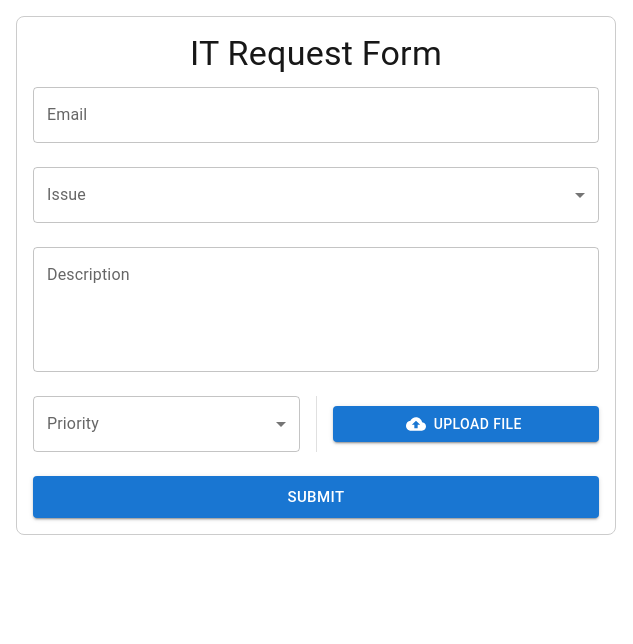
Test: RequestForm › it does not submit the form when the email is invalid
This screenshot has width=633, height=644.
Type "2222@test." into the field labelled "Email" at (316, 115), box [33,87,599,143]
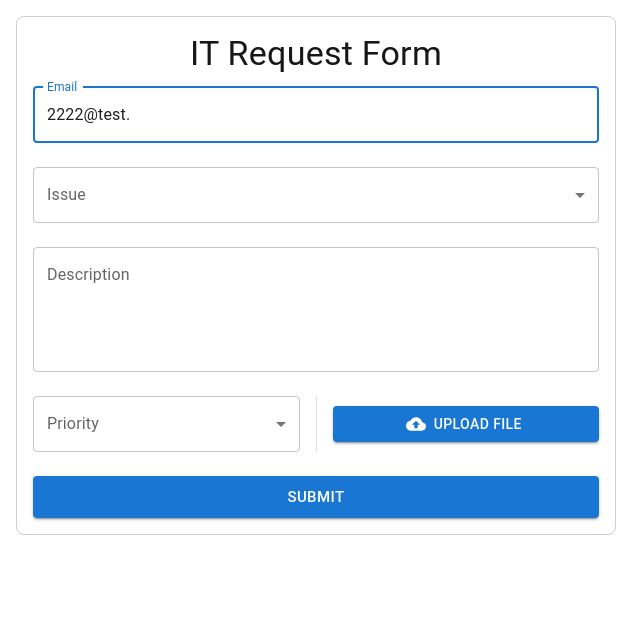
Click the button "Submit" at (316, 497), box [33,476,599,518]
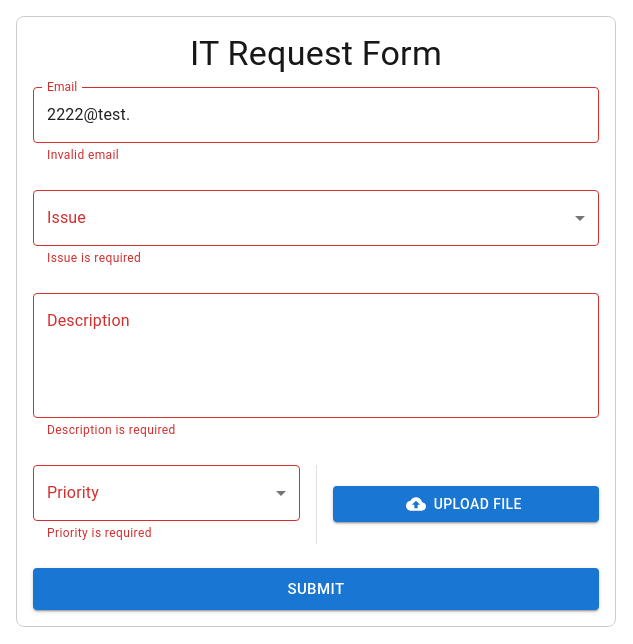
Check: the text "Invalid email" is shown, box [47,148,119,162]
